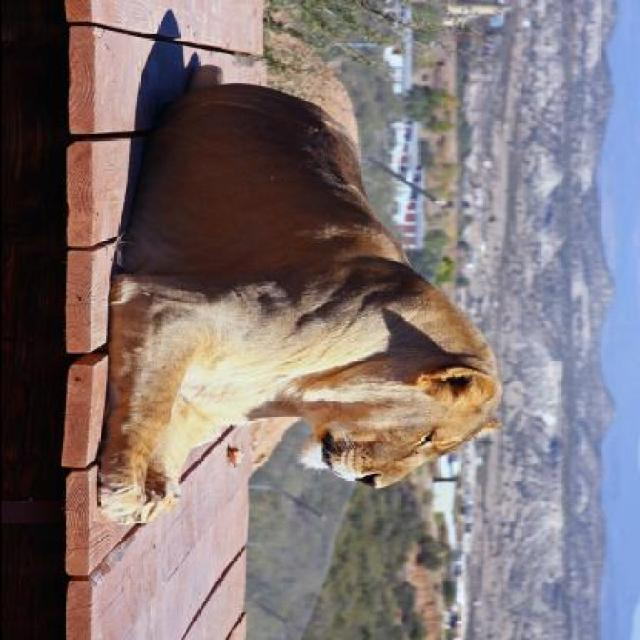Lion: (77, 58, 575, 551)
